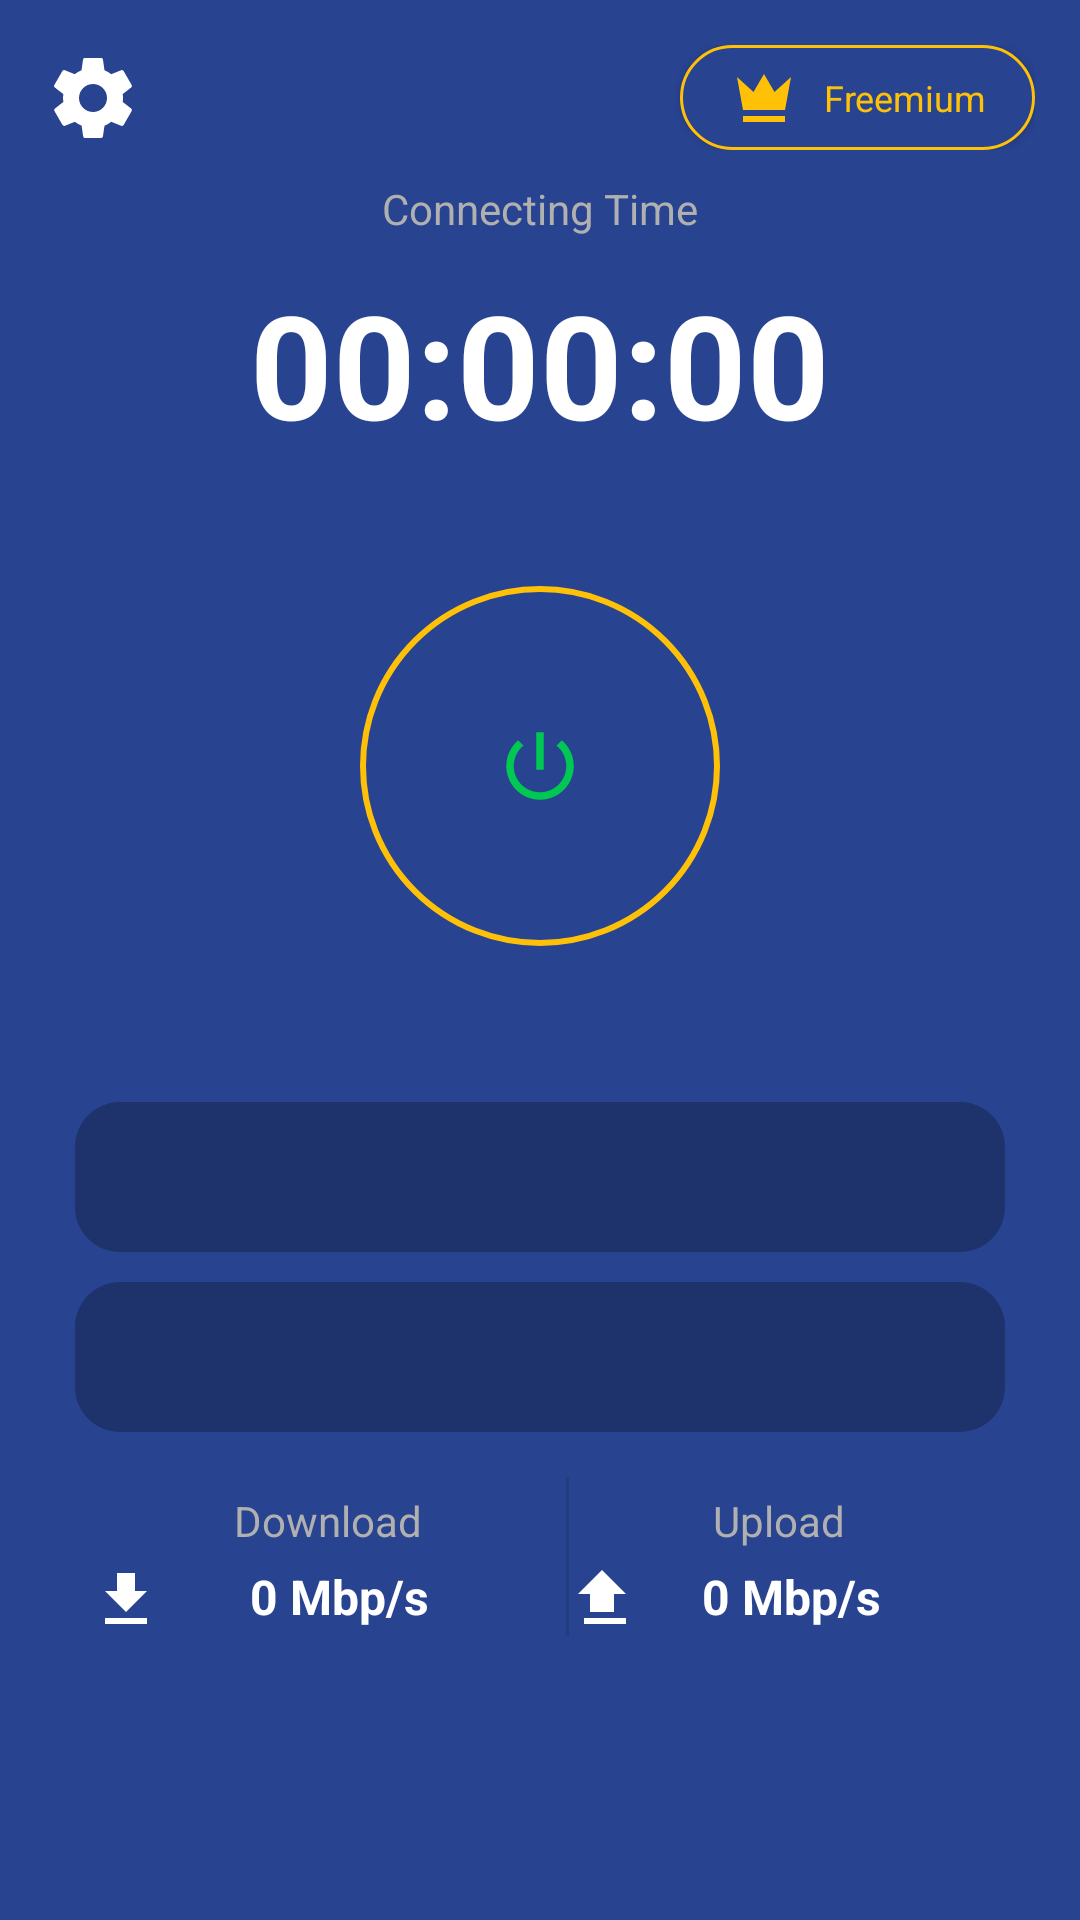

Named icons in this screenshot (1080 x 1920) and their bounding boxes, bbox=(x1, y1, x2, y2):
power: bbox=(360, 586, 720, 946)
settings: bbox=(54, 58, 132, 138)
